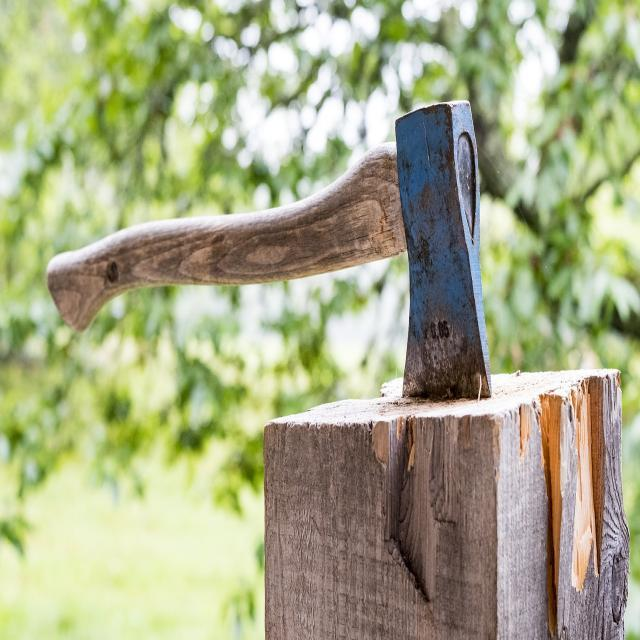Axe: (48, 101, 491, 399)
